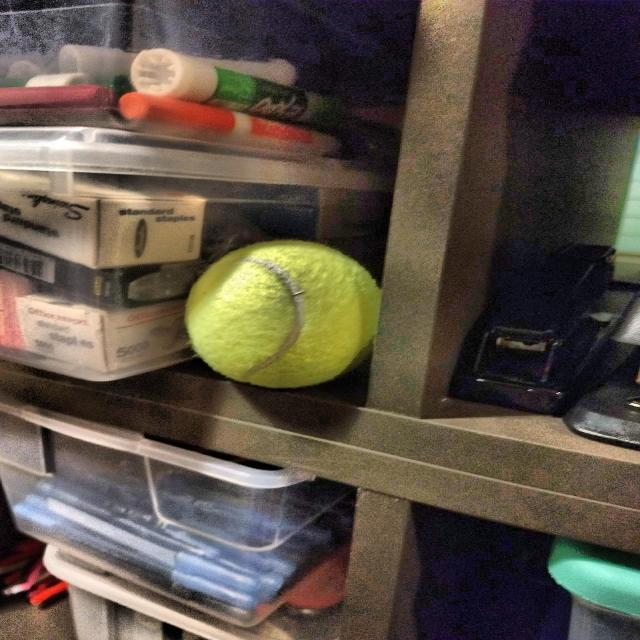tennis-ball: (184, 238, 388, 392)
